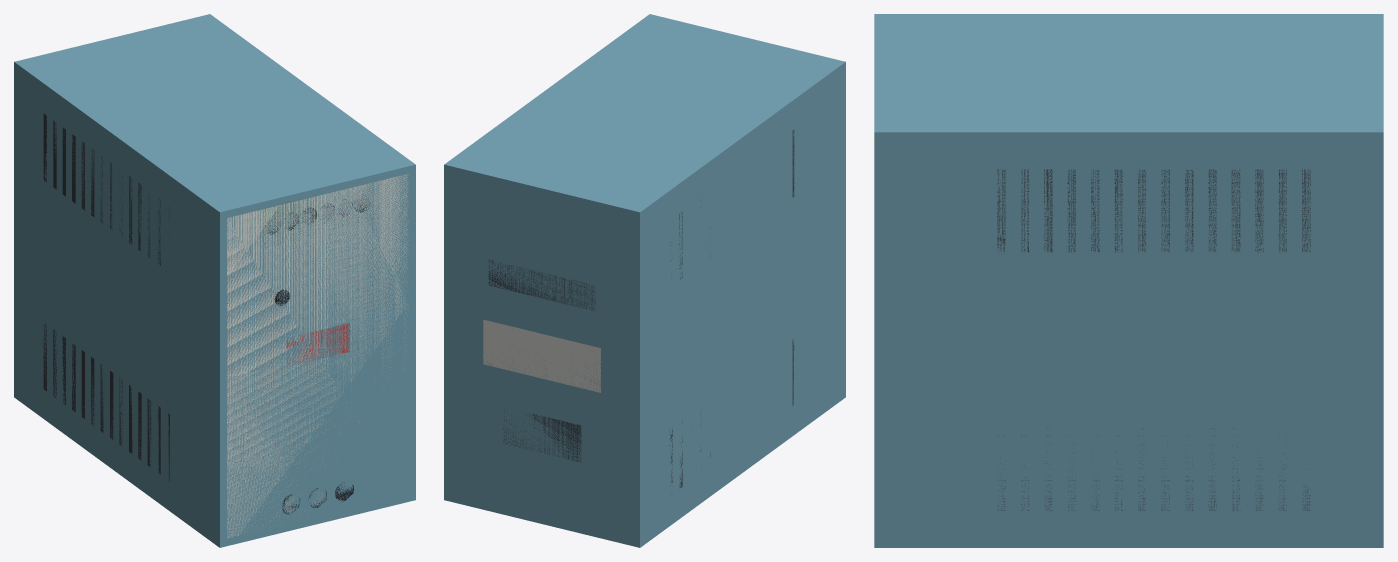
Rendered from mdr-100-24.glb.
3 renders of one model, left to right at view 1: azimuth 30°, elevation 25°; view 2: azimuth 150°, elevation 25°; view 3: azimuth 270°, elevation 25°, orthographic. The views are drawn at different scales.
Parts seen in each view (by area): view 1: housing:mdr, front:mdr, brand:mean-well; view 2: housing:mdr, din:mdr-rail-channel, din:mdr-upper-hook, din:mdr-lower-clip; view 3: housing:mdr.
Part boxes in pixels (x1=…): housing:mdr: x1=14, y1=14, x2=415, y2=547; front:mdr: x1=227, y1=174, x2=408, y2=537; brand:mean-well: x1=286, y1=323, x2=349, y2=364; housing:mdr: x1=444, y1=14, x2=845, y2=547; din:mdr-rail-channel: x1=483, y1=319, x2=600, y2=392; din:mdr-upper-hook: x1=488, y1=259, x2=595, y2=310; din:mdr-lower-clip: x1=503, y1=412, x2=581, y2=462; housing:mdr: x1=874, y1=14, x2=1383, y2=547.
Size of the model in its own units: 0.055 by 0.09 by 0.1.
